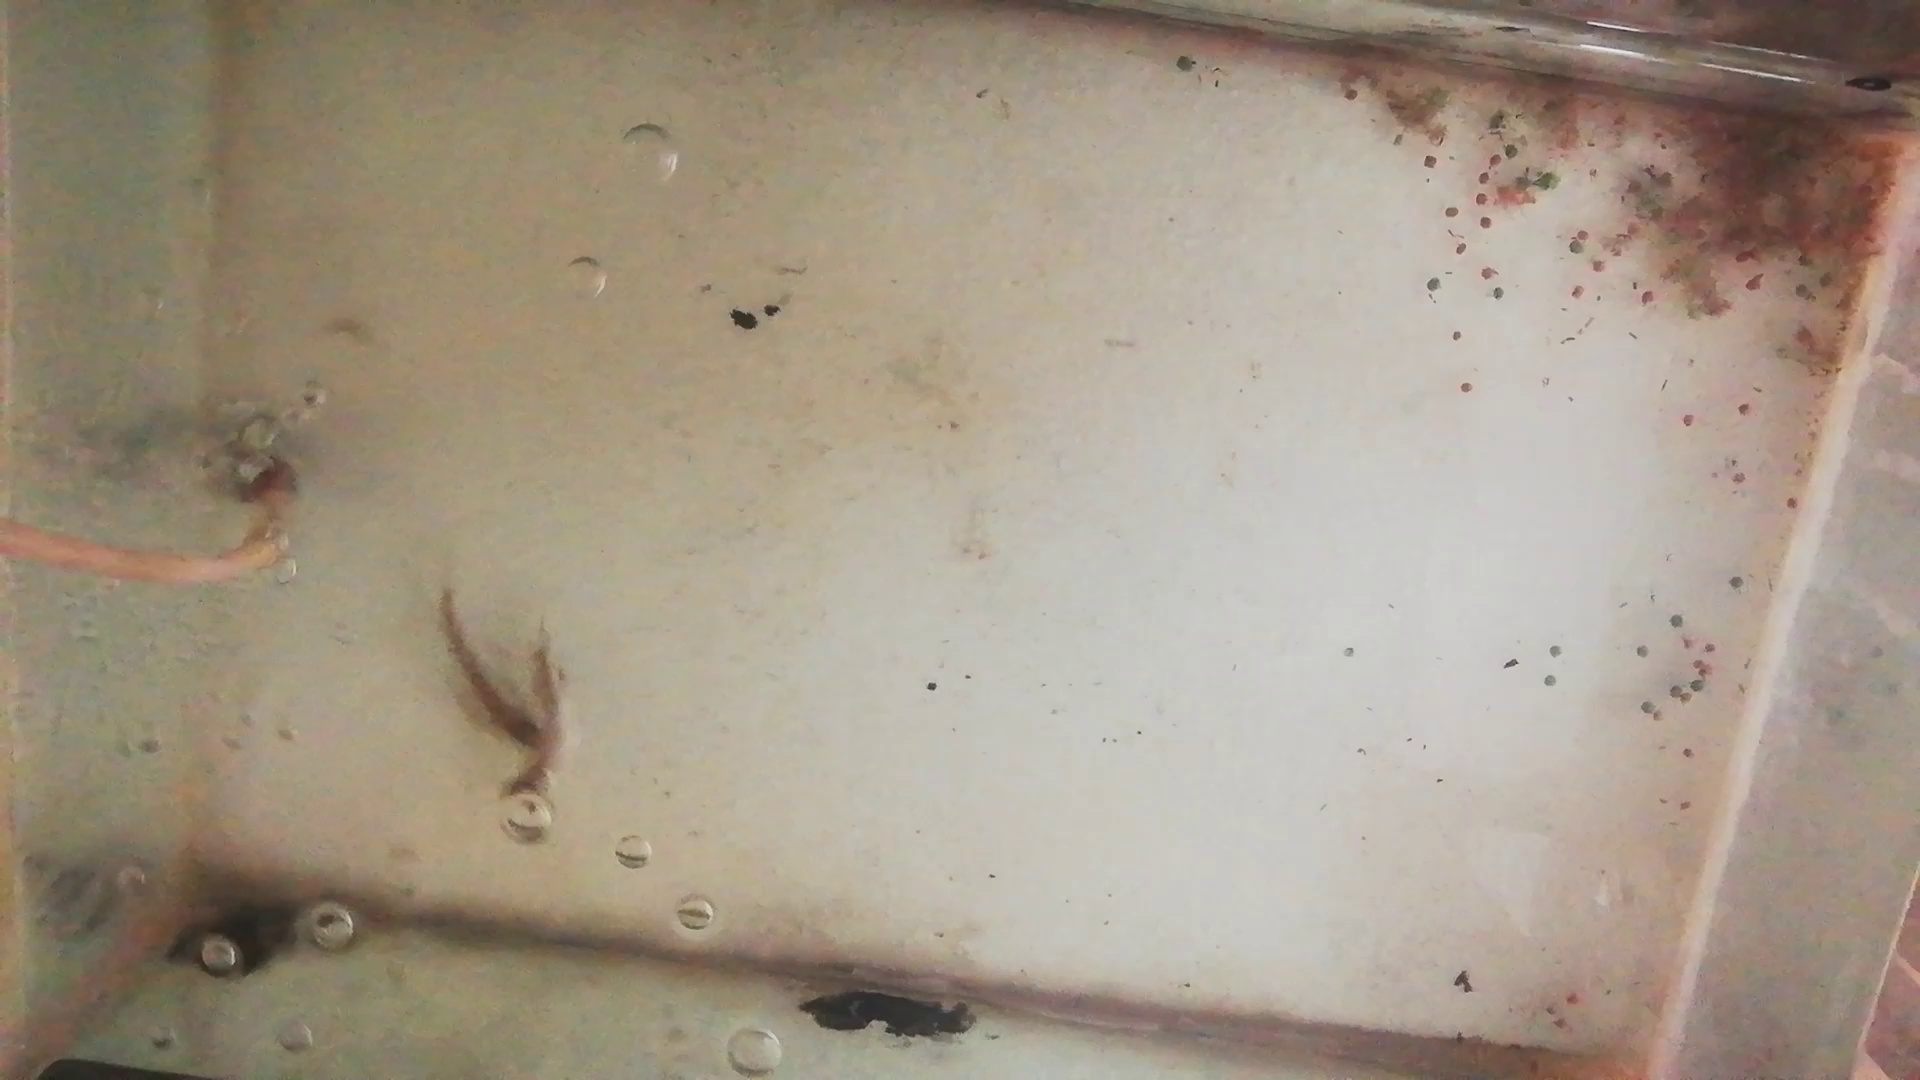fish: (433, 593, 547, 756), (505, 653, 566, 815)
